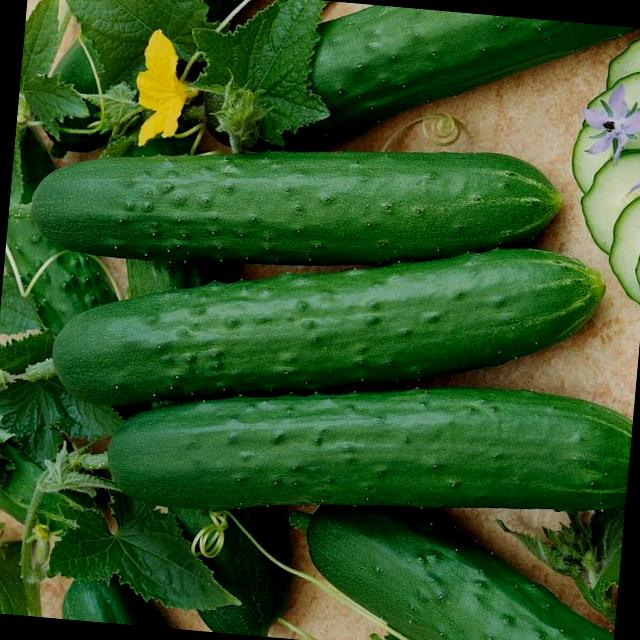Cucumber: (47, 206, 600, 447), (101, 350, 633, 546), (25, 110, 565, 290), (223, 0, 640, 180), (288, 497, 623, 640)
